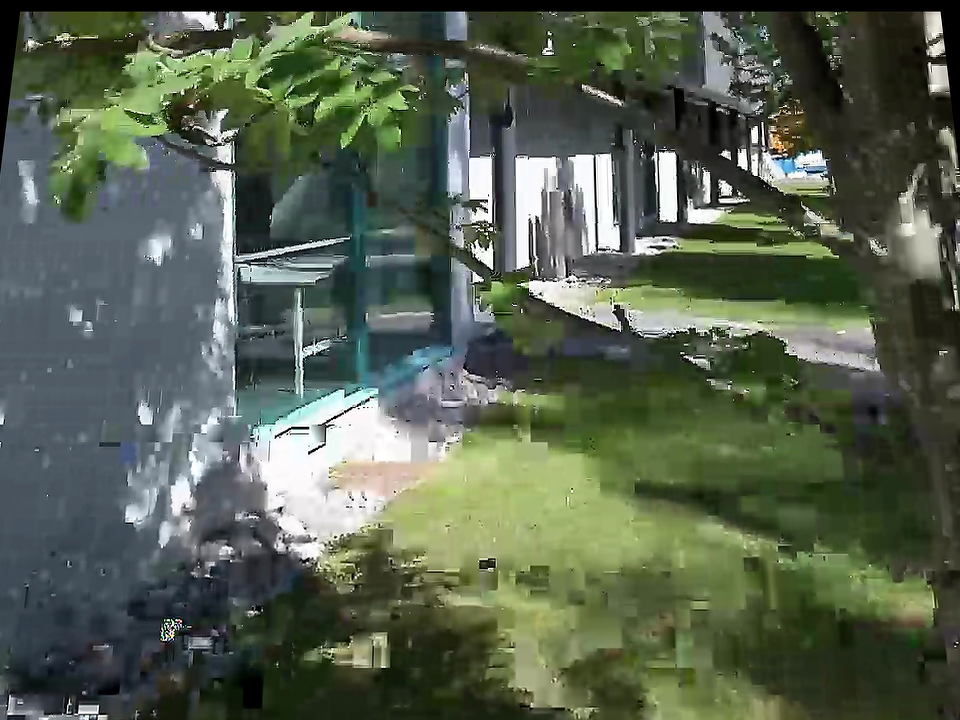branch: (600, 289, 885, 483), (459, 223, 689, 393), (363, 170, 506, 312)
trunk: (774, 43, 953, 312), (839, 273, 957, 517)
